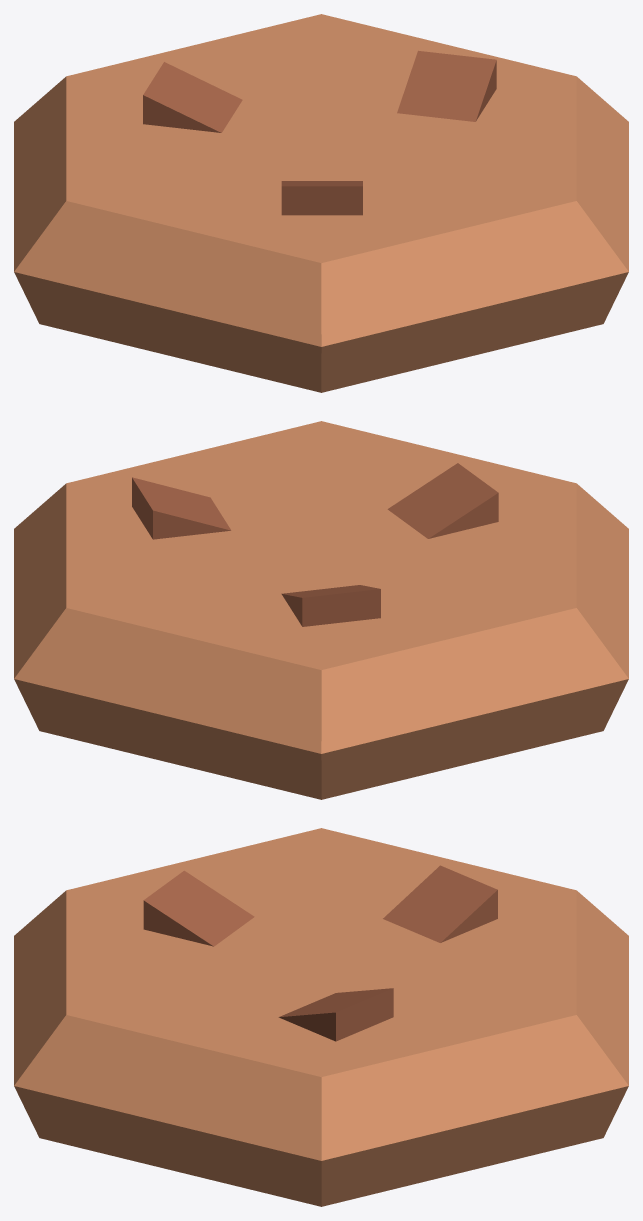
The model's file is cookie.dae.
3 views of the same model, one above another, from view 1: azimuth 30°, elevation 25°; view 2: azimuth 150°, elevation 25°; view 3: azimuth 270°, elevation 25° (orthographic).
Visible parts, largest first — view 1: cookie; view 2: cookie; view 3: cookie.
Boxes of the visible parts, x1,y1,x2,y2 form: cookie: (14, 14, 628, 392); cookie: (14, 421, 628, 799); cookie: (14, 828, 628, 1206).
Size of the model in its own units: 0.2197 by 0.0498 by 0.1903.
